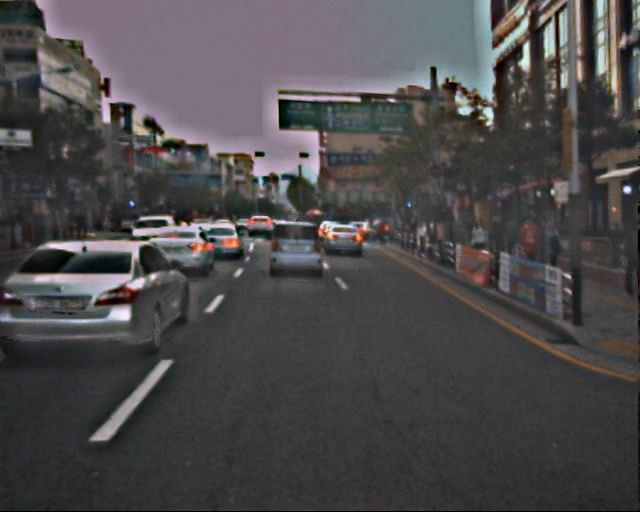person: (613, 221, 640, 296), (535, 221, 562, 288), (515, 219, 540, 280), (489, 214, 512, 270), (467, 219, 489, 272)
